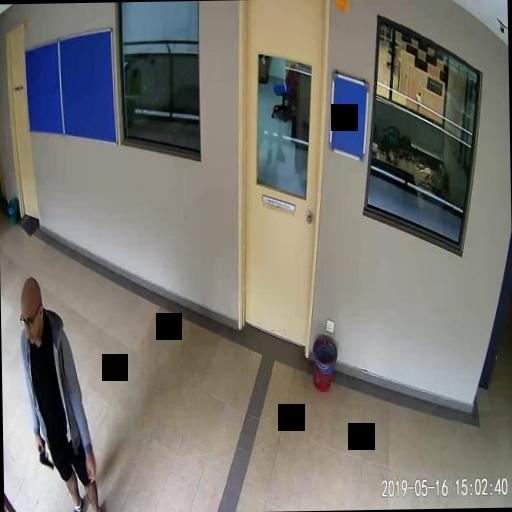Handgun: (36, 436, 53, 466)
